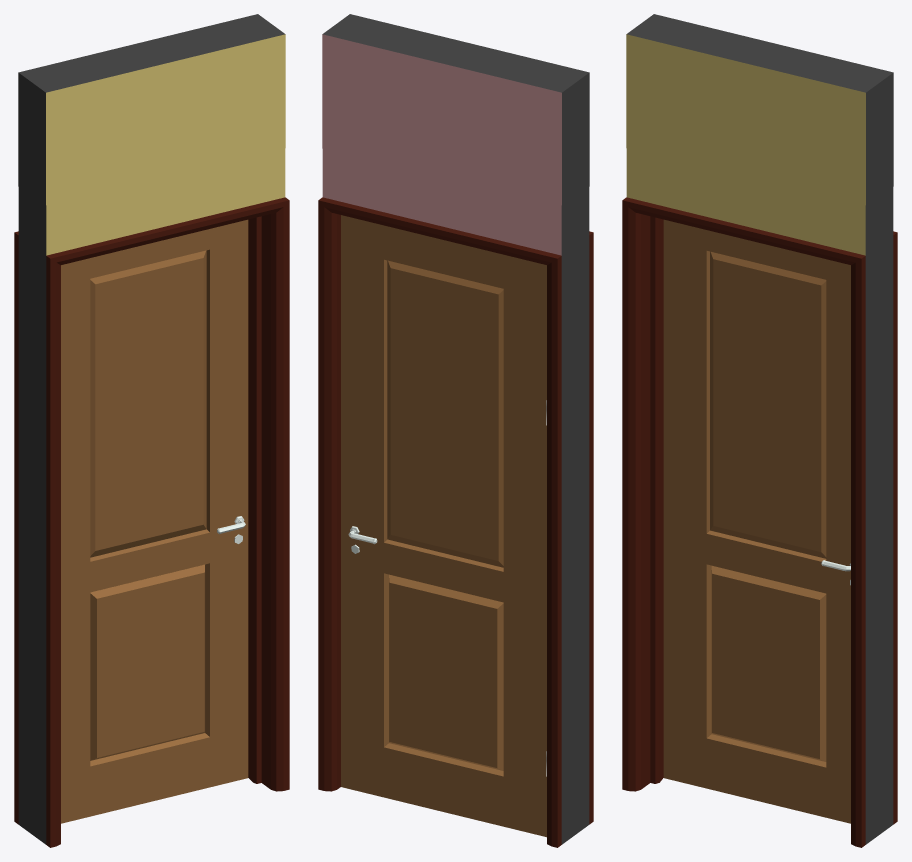
Rendered from Doorway 1.fbx.
3 views of the same model, side by side, from view 1: azimuth 30°, elevation 25°; view 2: azimuth 150°, elevation 25°; view 3: azimuth 330°, elevation 25° (orthographic).
Visible parts, largest first — view 1: Doorframe, Door; view 2: Door, Doorframe; view 3: Doorframe, Door.
Boxes of the visible parts, x1,y1,x2,y2 form: Doorframe: (14, 14, 289, 847); Door: (61, 219, 248, 823); Door: (341, 215, 546, 837); Doorframe: (318, 14, 593, 847); Doorframe: (622, 14, 897, 847); Door: (663, 219, 850, 823).
Size of the model in its own units: 100 by 301 by 26.
